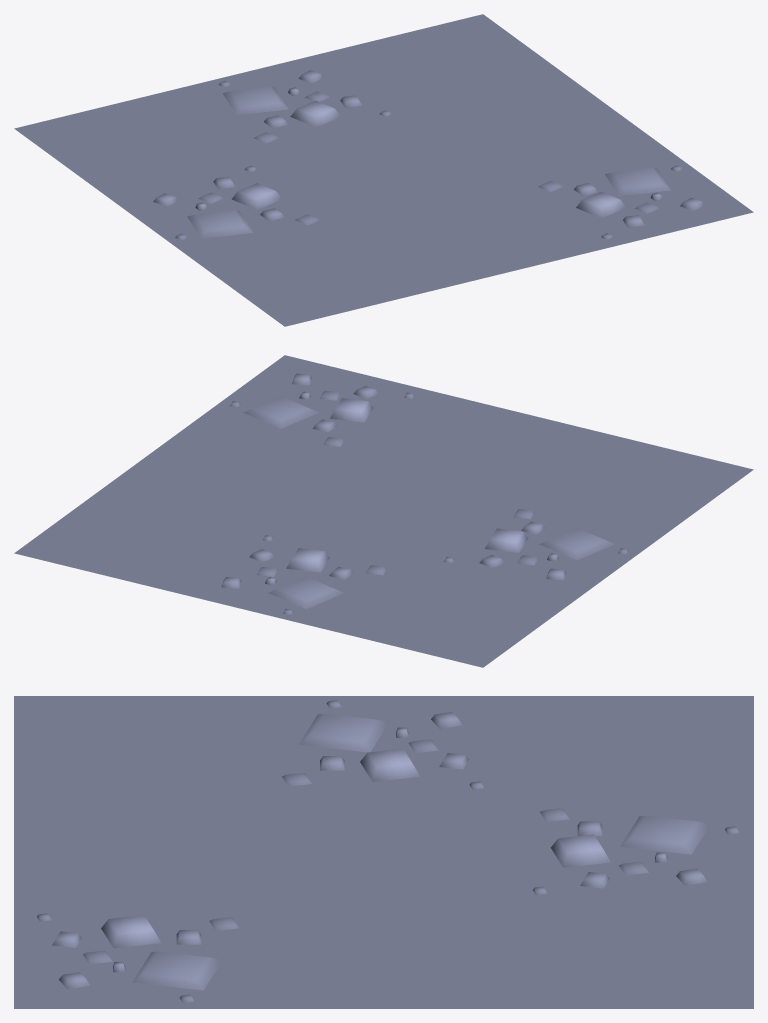
The model's file is 3x3-floor-detail-2.glb.
3 views of the same model, one above another, from view 1: azimuth 30°, elevation 25°; view 2: azimuth 150°, elevation 25°; view 3: azimuth 270°, elevation 25° (orthographic). The views are drawn at different scales.
Parts seen in each view (by area): view 1: floor.001; view 2: floor.001; view 3: floor.001.
Part boxes in pixels (left/top/right/bottom): floor.001: left=14, top=14, right=753, bottom=326; floor.001: left=14, top=355, right=753, bottom=667; floor.001: left=14, top=696, right=753, bottom=1008.
Size of the model in its own units: 3 by 0.05 by 3.
9 materials, 9 textured.
